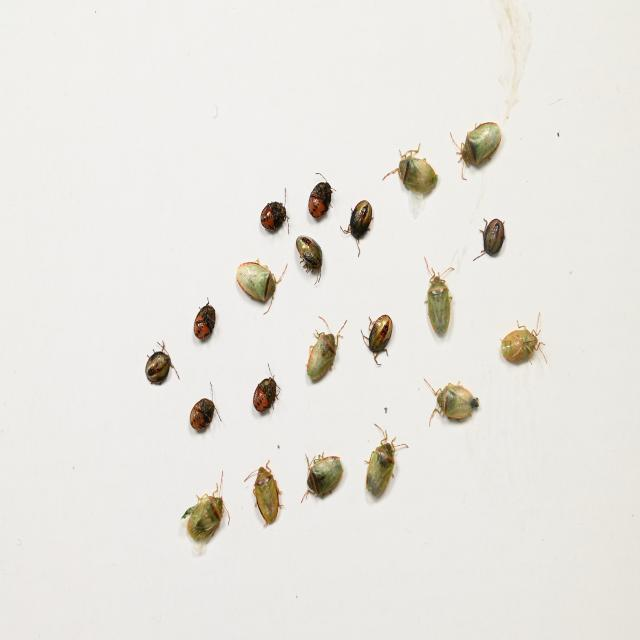stinkbug: (181, 469, 230, 546), (362, 422, 410, 500), (381, 142, 438, 199), (448, 120, 501, 181), (304, 312, 348, 385), (244, 457, 284, 531), (236, 257, 287, 315), (500, 311, 548, 365), (300, 449, 343, 507), (424, 255, 454, 338)
